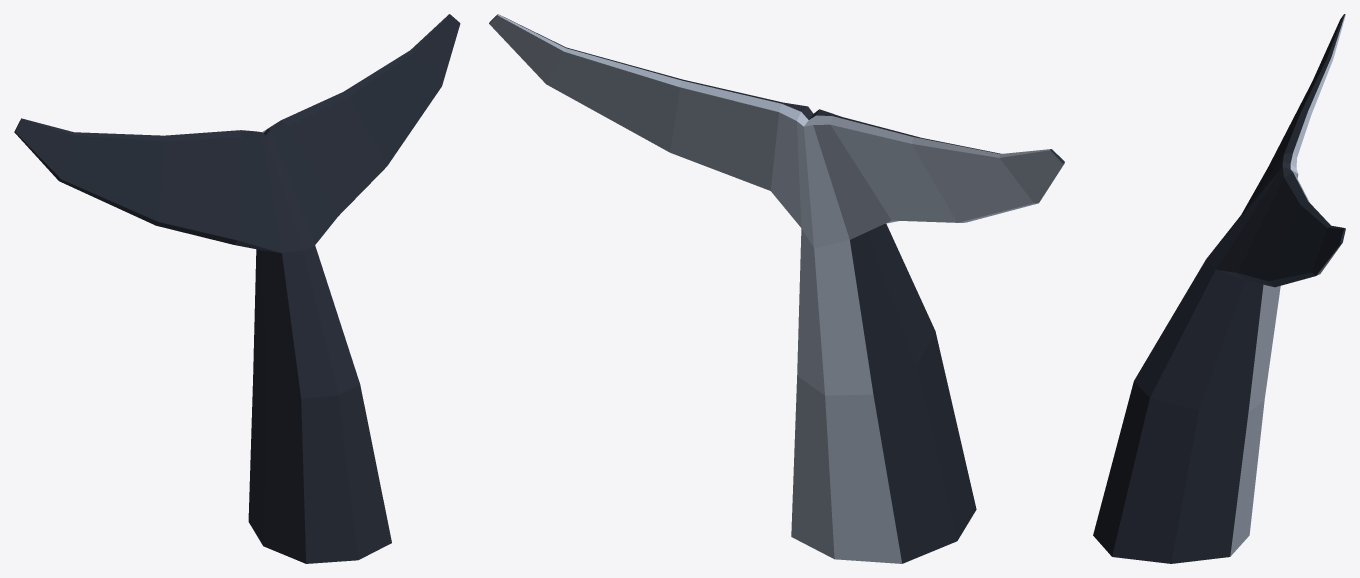
3 views of the same model, side by side, from view 1: azimuth 30°, elevation 25°; view 2: azimuth 150°, elevation 25°; view 3: azimuth 270°, elevation 25° (orthographic). The views are drawn at different scales.
Visible parts, largest first — view 1: Geo_WhaleTail; view 2: Geo_WhaleTail; view 3: Geo_WhaleTail.
Boxes of the visible parts, bbox=[...] form: Geo_WhaleTail: bbox=[14, 14, 460, 563]; Geo_WhaleTail: bbox=[489, 14, 1064, 563]; Geo_WhaleTail: bbox=[1093, 14, 1345, 563].
Size of the model in its own units: 112 by 96.8 by 53.55.
Materials: 1 (1 with a texture image).
